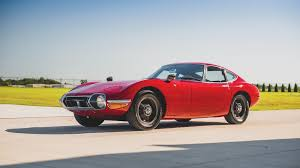Toyota: (163, 66, 247, 122)
